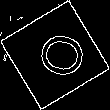O_W: (25, 28, 85, 82)
